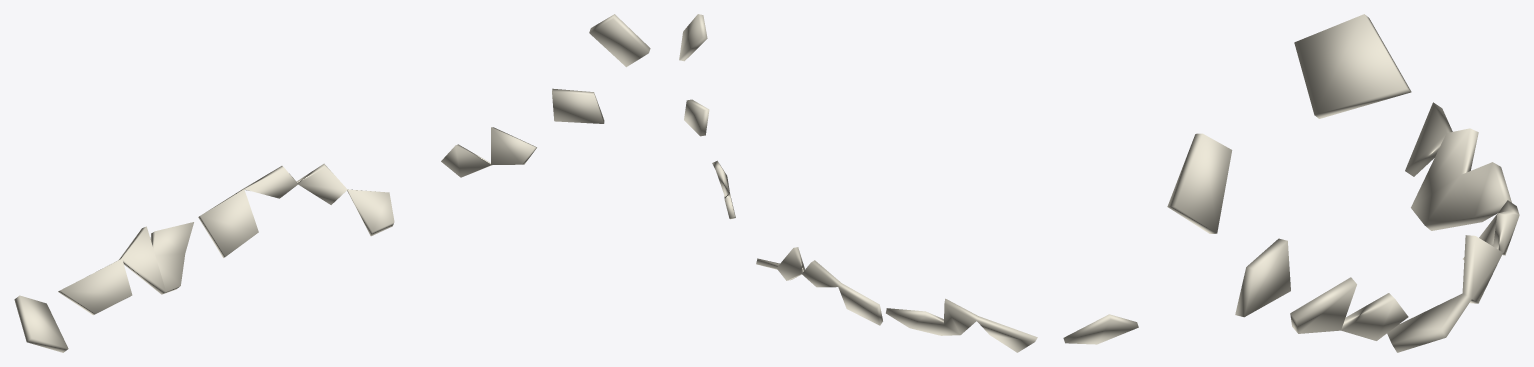
The picture shows the model from 3 angles, left to right: view 1: azimuth 30°, elevation 25°; view 2: azimuth 150°, elevation 25°; view 3: azimuth 270°, elevation 25°; orthographic projection. The views are drawn at different scales.
Parts seen in each view (by area): view 1: ZA_43db9623b37b76ed; view 2: ZA_43db9623b37b76ed; view 3: ZA_43db9623b37b76ed.
Boxes of the visible parts, x1,y1,x2,y2 form: ZA_43db9623b37b76ed: [14, 14, 650, 352]; ZA_43db9623b37b76ed: [679, 14, 1138, 352]; ZA_43db9623b37b76ed: [1167, 14, 1519, 352].
Size of the model in its own units: 0.0468 by 0.0186 by 0.0158.
